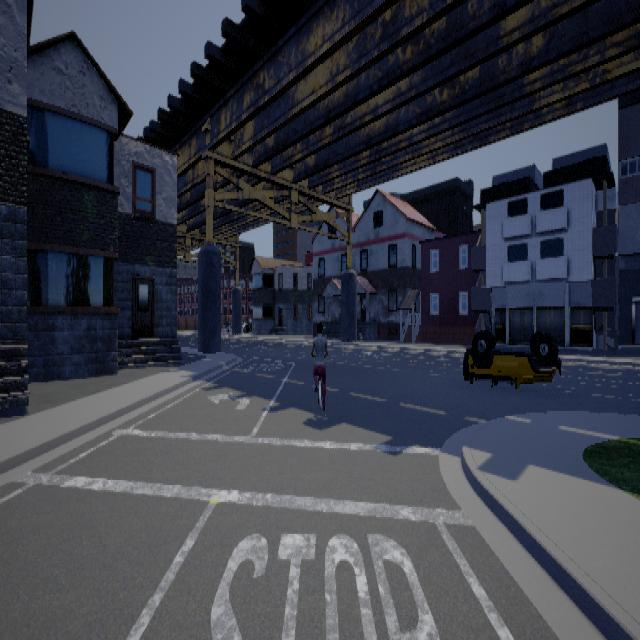bike: (302, 320, 333, 418)
vehicle: (462, 328, 561, 388)
